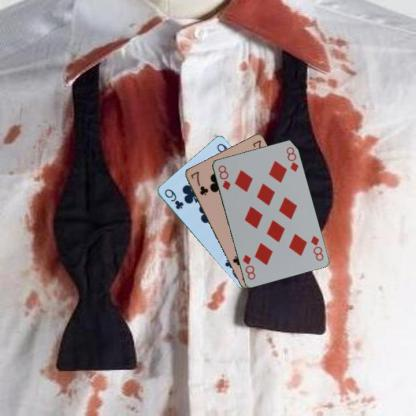7c: (188, 169, 209, 196)
8d: (308, 233, 325, 262), (216, 162, 232, 192)
9c: (162, 186, 184, 210)
